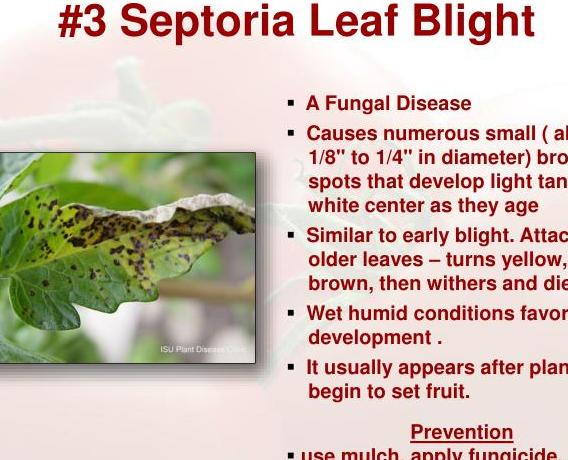Tomato Septoria leaf spot: (0, 188, 251, 342)
